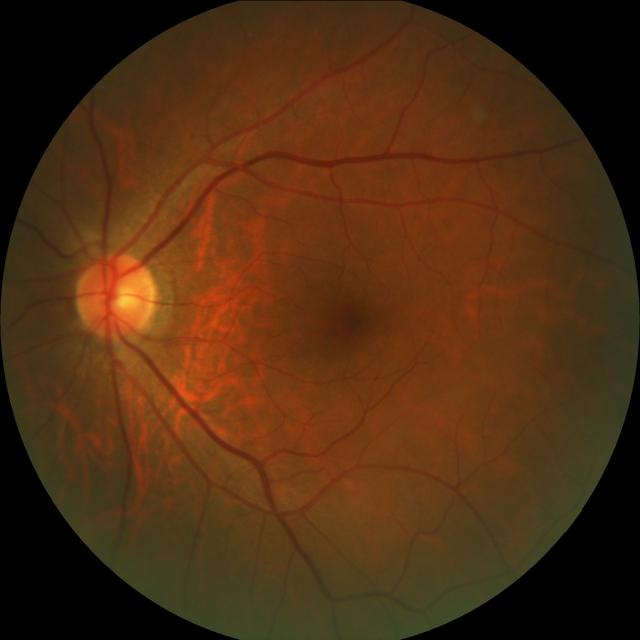OC: (102, 278, 136, 311)
OD: (73, 252, 158, 340)
